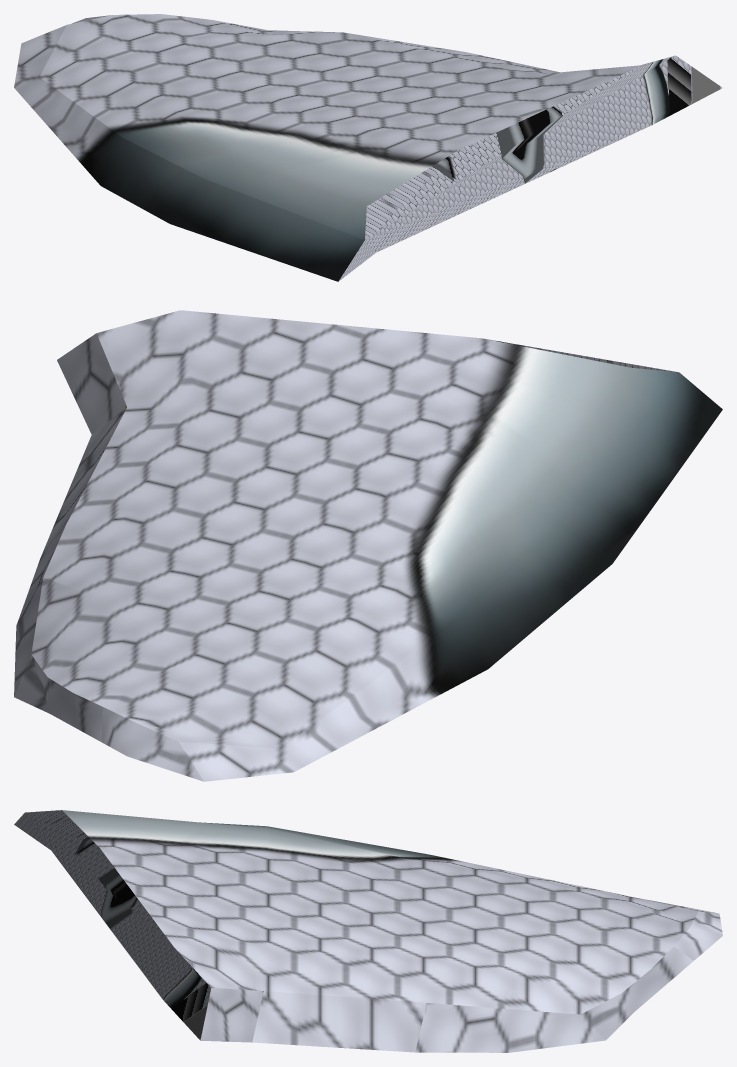
File: StarfighterDestructionPart3.fbx
3 renders of one model, top to bottom at view 1: azimuth 30°, elevation 25°; view 2: azimuth 150°, elevation 25°; view 3: azimuth 270°, elevation 25°, orthographic. The views are drawn at different scales.
Visible parts, largest first — view 1: polySurface1; view 2: polySurface1; view 3: polySurface1.
Part boxes in pixels (<box>): polySurface1: <box>14,14,722,281</box>; polySurface1: <box>14,310,722,781</box>; polySurface1: <box>14,810,722,1052</box>.
Size of the model in its own units: 3.69 by 0.991 by 4.77.
1 material, 1 textured.
